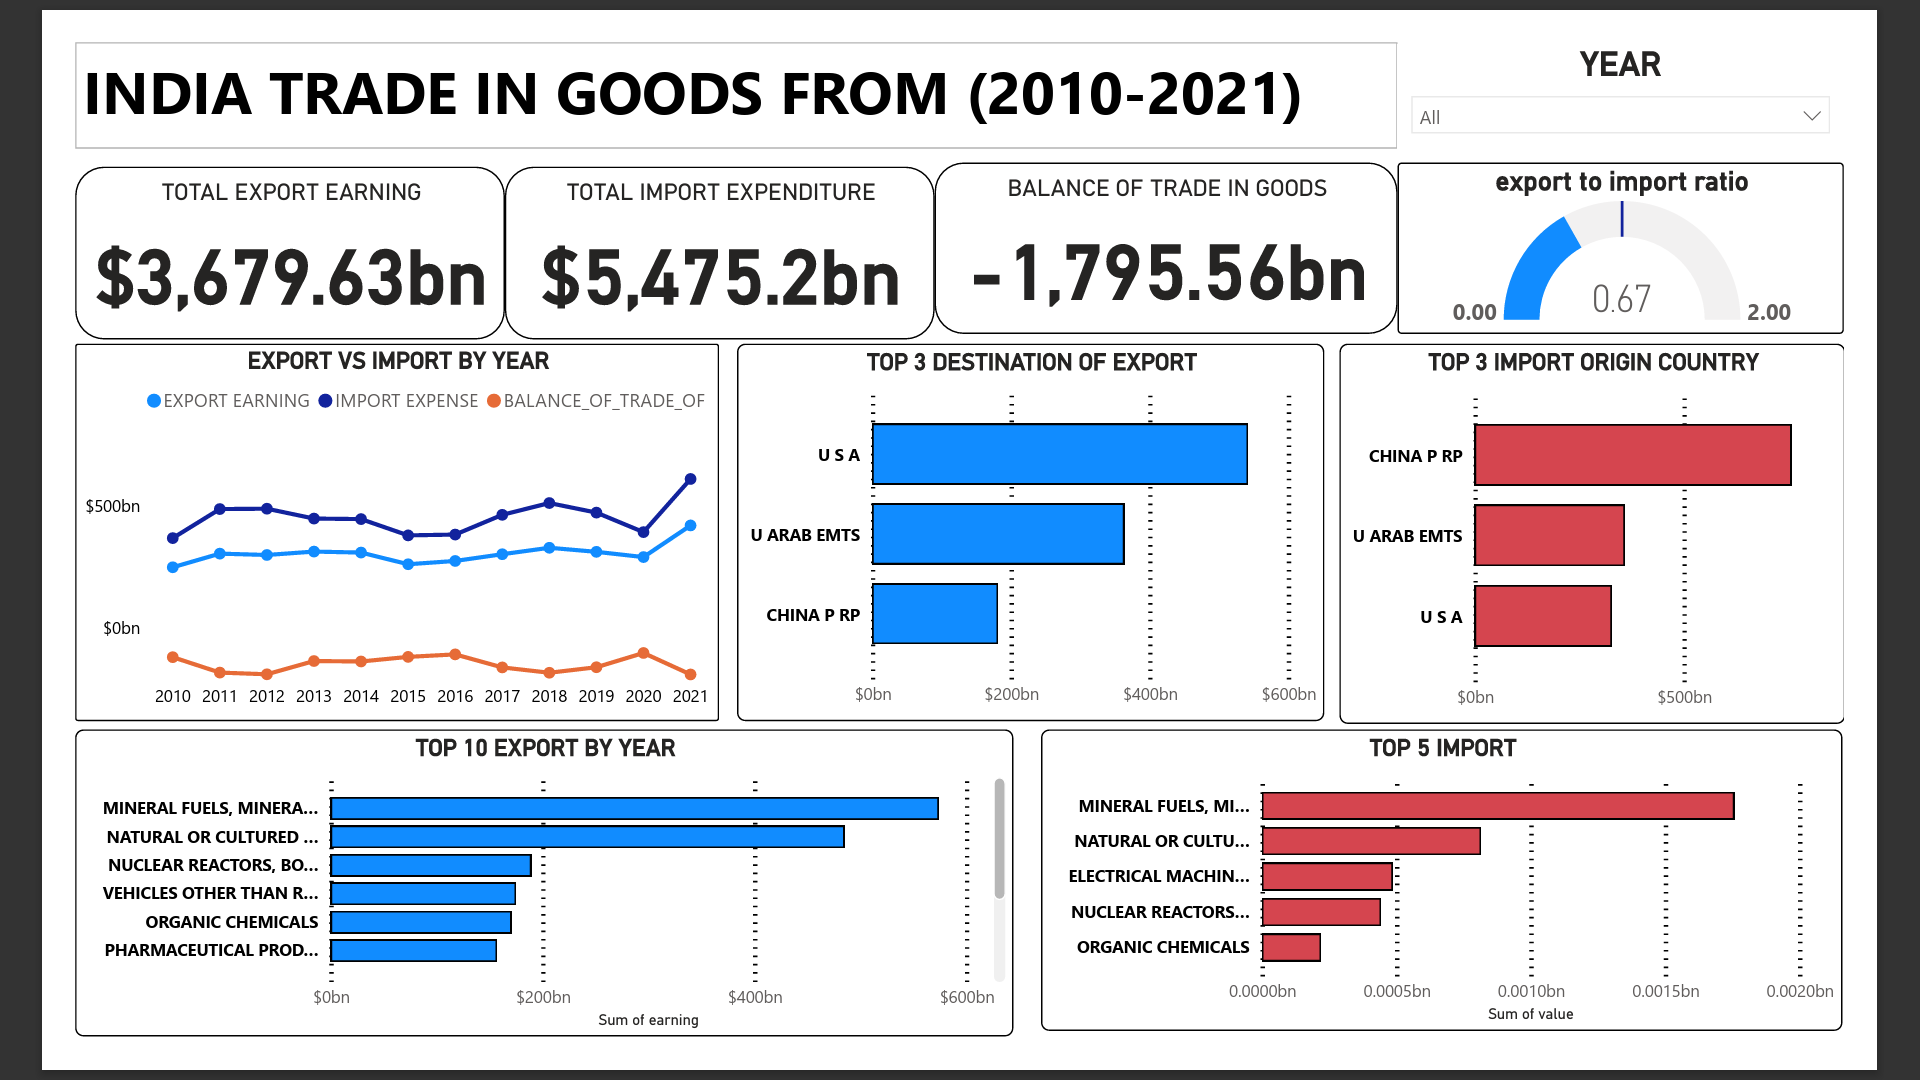

The page's visual inventory and layout, read from the dashboard file:
{"tool":"powerbi","page":{"name":"Page 1","canvas":[1280,720],"ordinal":0},"visuals":[{"type":"textbox","box":[0,0,956.7,76.5],"z":0},{"type":"slicer","title":"YEAR","fields":{"Values":["2010_2021_HS2_import.year"]},"box":[956.7,1.7,322.8,74.9],"z":1000},{"type":"card","title":"TOTAL EXPORT EARNING","fields":{"Values":["Sum(2010_2021_HS2_export.earning)"]},"box":[0,89.9,311.1,124.8],"z":2000},{"type":"card","title":"TOTAL IMPORT EXPENDITURE","fields":{"Values":["Sum(2010_2021_HS2_import.expense_on_import)"]},"box":[311.1,89.9,311.1,124.8],"z":3000},{"type":"card","title":"BALANCE OF TRADE IN GOODS","fields":{"Values":["2010_2021_HS2_import.BALANCE_OF_TRADE_OF"]},"box":[622.3,86.5,334.4,124.8],"z":4000},{"type":"gauge","fields":{"Y":["2010_2021_HS2_export.export to import ratio"]},"box":[956.7,86.5,322.8,124.8],"z":6000},{"type":"lineChart","title":"EXPORT VS IMPORT BY YEAR","fields":{"Category":["2010_2021_HS2_export.year"],"Y":["Sum(2010_2021_HS2_export.earning)","Sum(2010_2021_HS2_import.expense_on_import)","2010_2021_HS2_import.BALANCE_OF_TRADE_OF"]},"box":[0,217.9,465.7,273.1],"z":7000},{"type":"barChart","title":"TOP 10 EXPORT BY YEAR","fields":{"Category":["2010_2021_HS2_export.Commodity"],"Y":["Sum(2010_2021_HS2_export.earning)"]},"box":[0,497,679.1,222.4],"z":7001},{"type":"barChart","title":"TOP 5 IMPORT","fields":{"Category":["2010_2021_HS2_import.Commodity"],"Y":["Sum(2010_2021_HS2_import.value)"]},"box":[698.5,497,580.6,217.9],"z":7002},{"type":"barChart","title":"TOP 3 DESTINATION OF EXPORT","fields":{"Category":["2010_2021_HS2_export.country"],"Y":["Sum(2010_2021_HS2_export.earning)"]},"box":[479.1,217.9,425.4,273.1],"z":7003},{"type":"barChart","title":"TOP 3 IMPORT  ORIGIN COUNTRY","fields":{"Y":["Sum(2010_2021_HS2_import.expense_on_import)"],"Category":["2010_2021_HS2_import.country"]},"box":[914.9,217.9,365.7,274.6],"z":7004}]}

Visuals, with their boxes in screenshot pixels (x1, y1, x2, y2), scaled from the page's 1280x720 canvas onto the 1920x1080 screenshot:
textbox: (left=0, top=0, right=1435, bottom=115)
"YEAR" slicer: (left=1435, top=3, right=1919, bottom=115)
"TOTAL EXPORT EARNING" card: (left=0, top=135, right=467, bottom=322)
"TOTAL IMPORT EXPENDITURE" card: (left=467, top=135, right=933, bottom=322)
"BALANCE OF TRADE IN GOODS" card: (left=933, top=130, right=1435, bottom=317)
gauge - 2010_2021_HS2_export.export to import ratio: (left=1435, top=130, right=1919, bottom=317)
"EXPORT VS IMPORT BY YEAR" lineChart: (left=0, top=327, right=699, bottom=736)
"TOP 10 EXPORT BY YEAR" barChart: (left=0, top=746, right=1019, bottom=1079)
"TOP 5 IMPORT" barChart: (left=1048, top=746, right=1919, bottom=1072)
"TOP 3 DESTINATION OF EXPORT" barChart: (left=719, top=327, right=1357, bottom=736)
"TOP 3 IMPORT  ORIGIN COUNTRY" barChart: (left=1372, top=327, right=1919, bottom=739)
